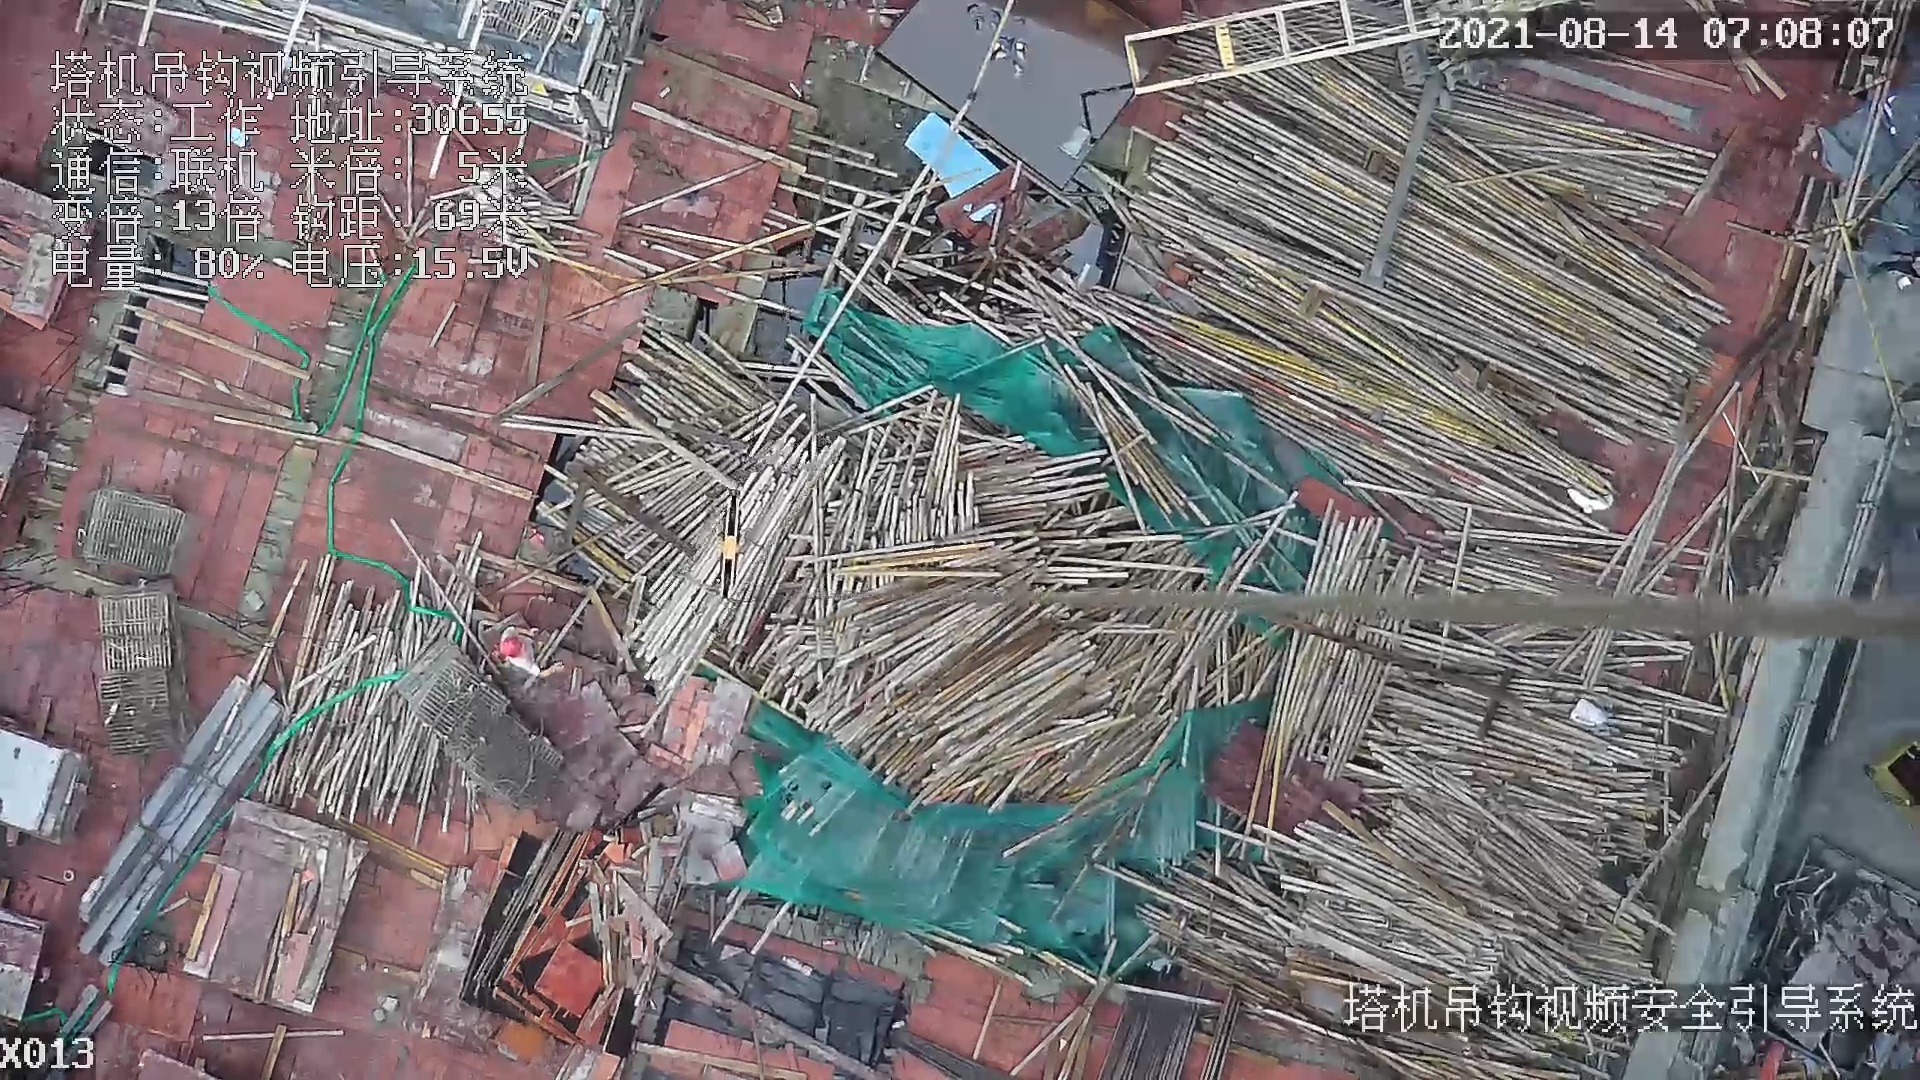helmet: (496, 634, 526, 660)
hook: (719, 486, 745, 608)
person: (503, 623, 570, 683)
